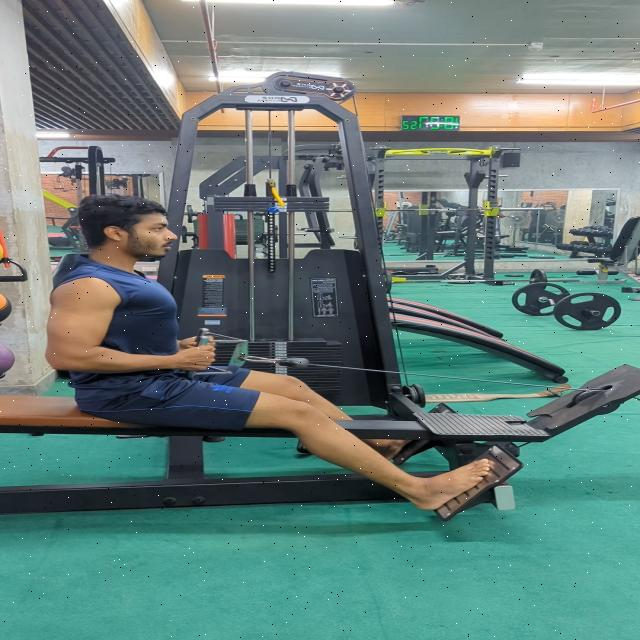Normal_RowingMachineExercise: (42, 194, 492, 510)
